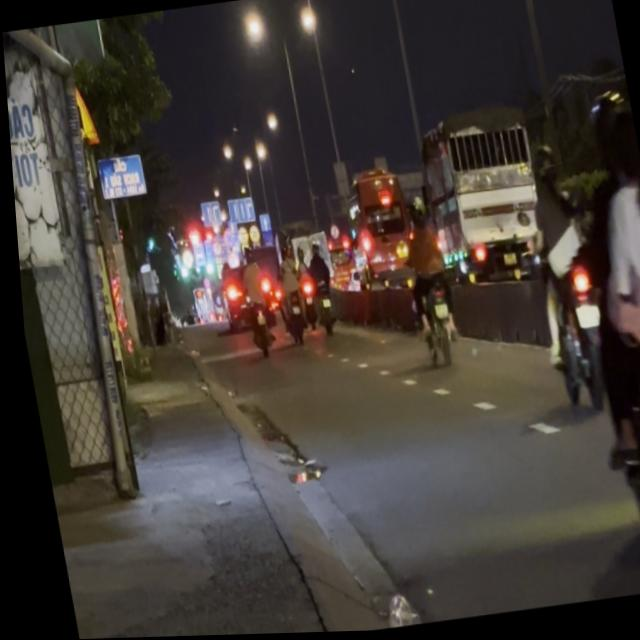licenseplate: (534, 87, 640, 586), (507, 135, 619, 417)
nohelmet: (571, 305, 596, 330)
